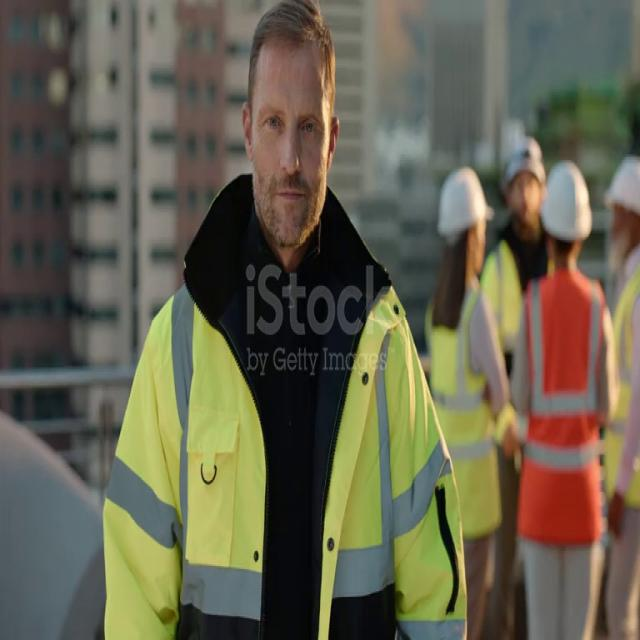capacete: (530, 150, 596, 258), (429, 154, 498, 252), (595, 130, 640, 228), (499, 121, 548, 194)
